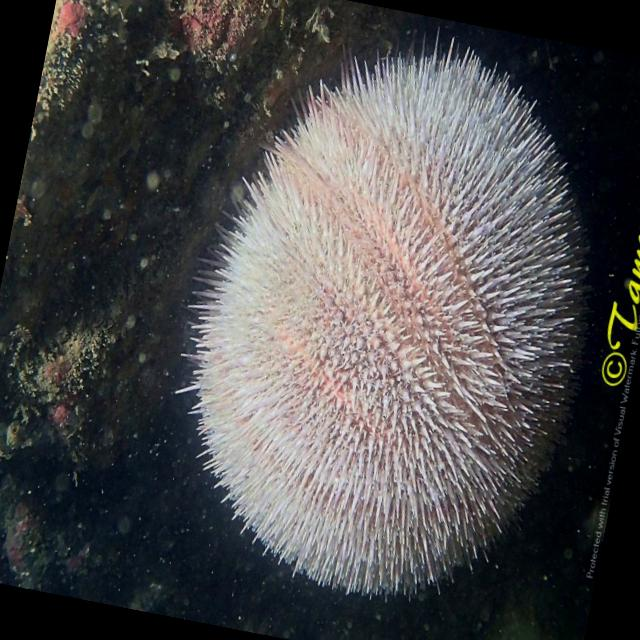Deniz Kestanesi: (143, 0, 640, 626)
